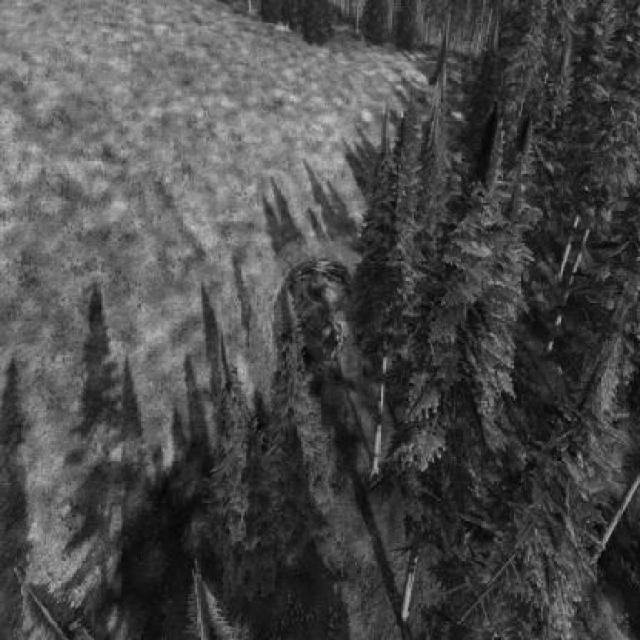Tank: (281, 260, 347, 374)
